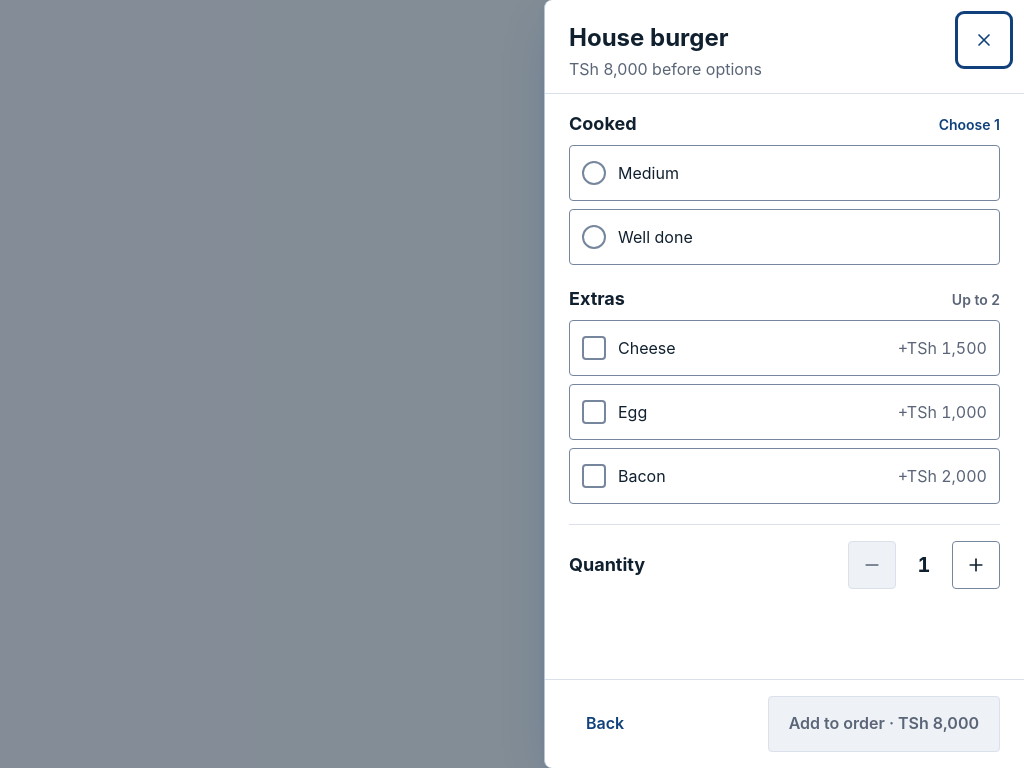
OptionsSheet › holds Add while more than the most allowed are chosen, as the catalog says
Step 1. Click the radio button labelled "Medium" → (648, 173), box [569,145,1000,201]
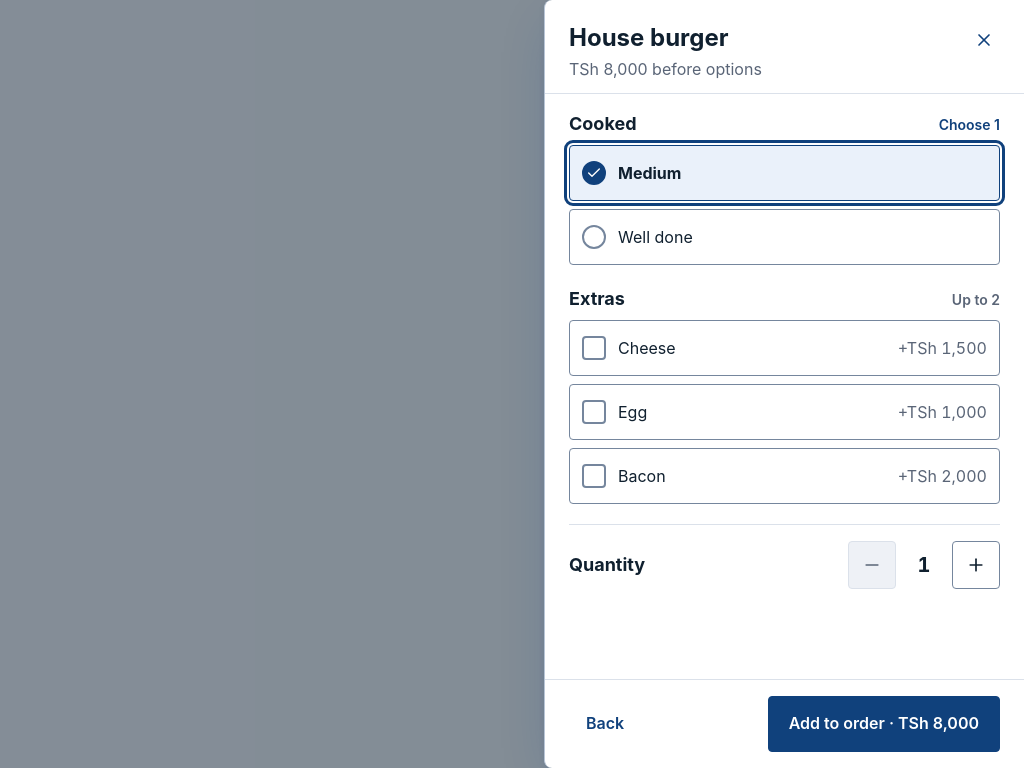
Step 2. Click the checkbox labelled "Cheese +TSh 1,500" → (647, 348), box [569,320,1000,376]
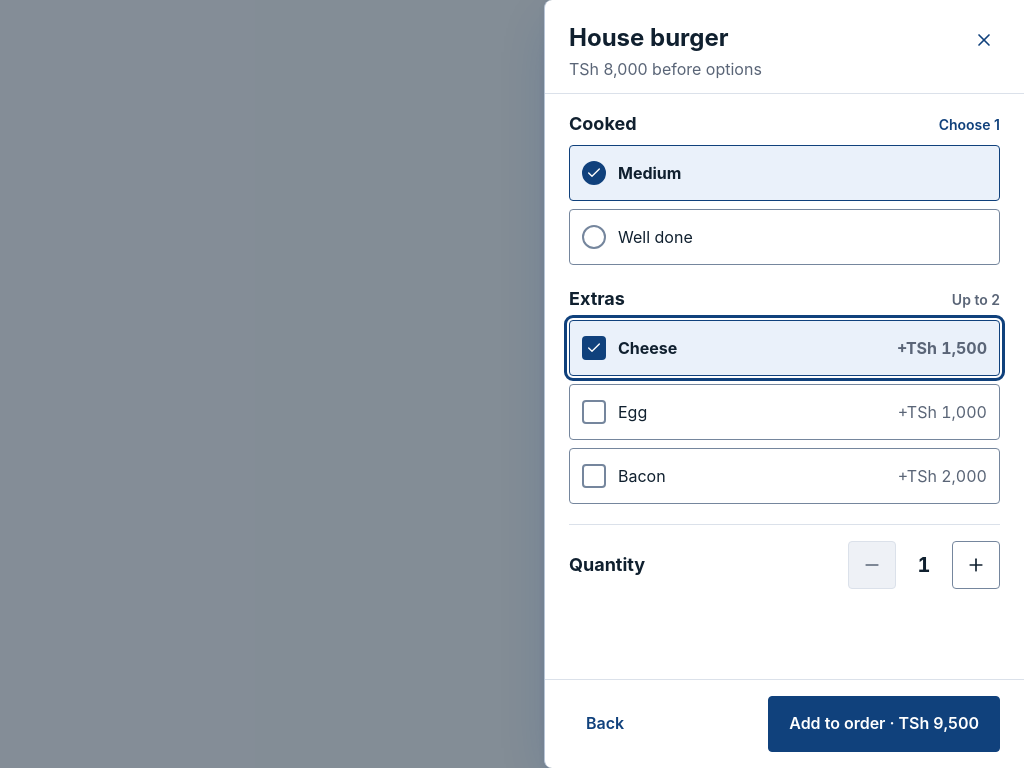
Step 3. Click the checkbox labelled "Egg +TSh 1,000" → (947, 412), box [569,384,1000,440]
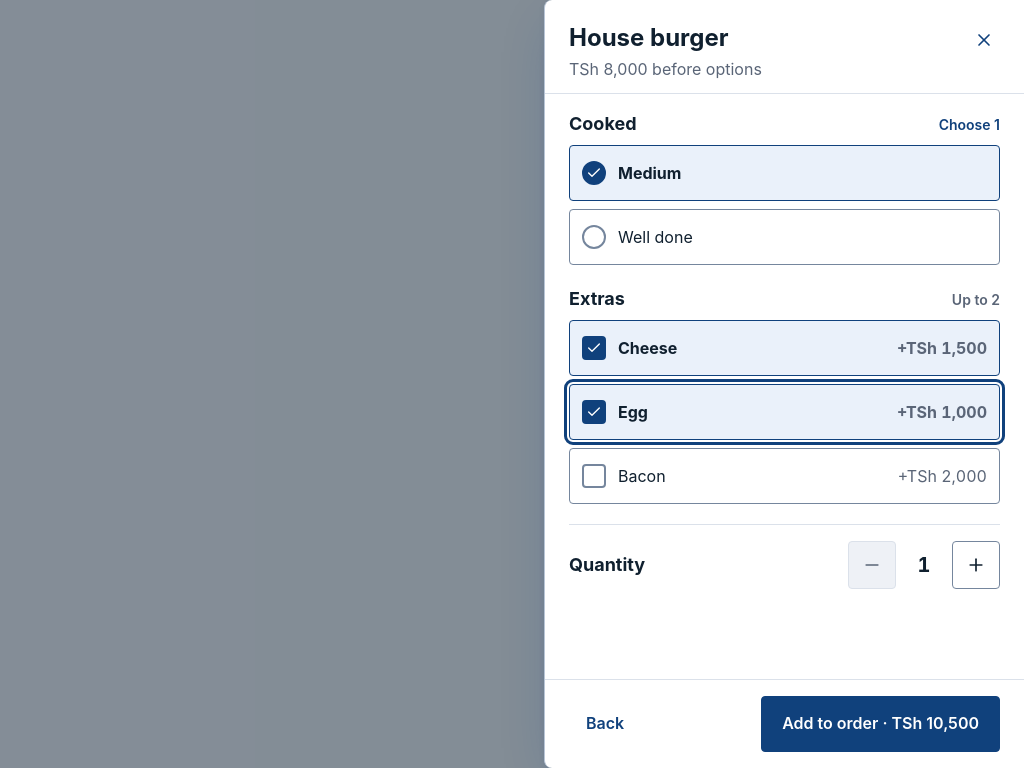
Step 4. Click the checkbox labelled "Bacon +TSh 2,000" → (642, 476), box [569,448,1000,504]
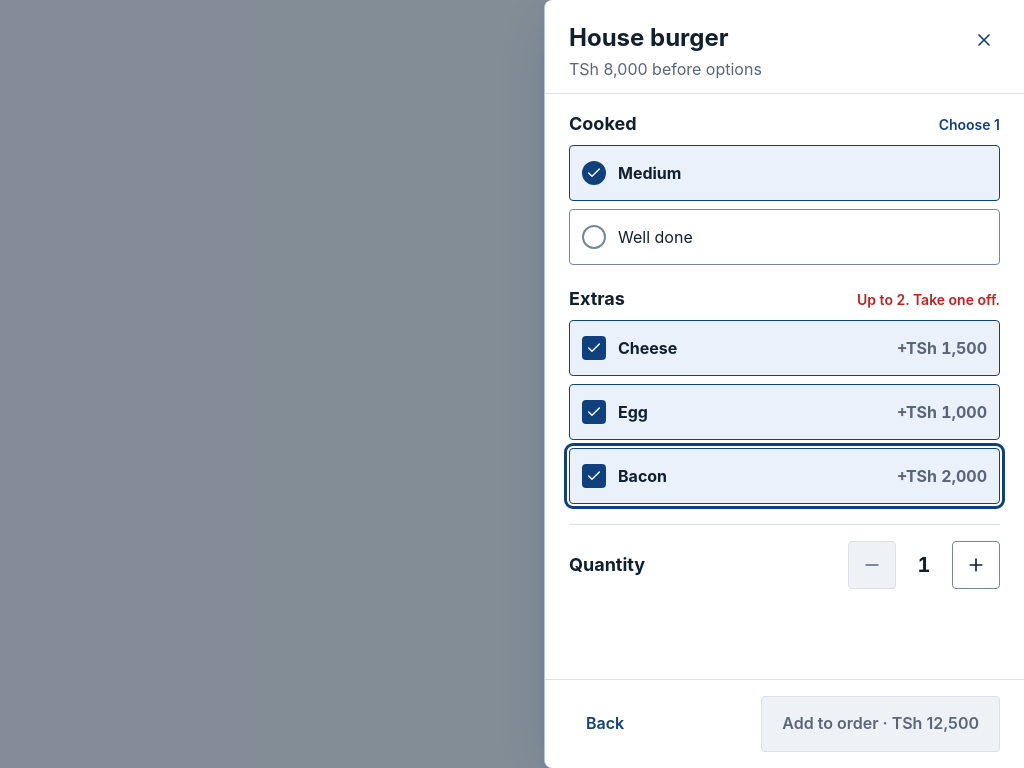
Now the button with test id "modifier-confirm-add" is disabled, box [761,696,1000,752]
Now the element named "Extras, up to 2" shows "Up to 2. Take one off.", box [857,291,1000,308]
Step 5. Click the checkbox labelled "Bacon +TSh 2,000" → (643, 476), box [569,448,1000,504]
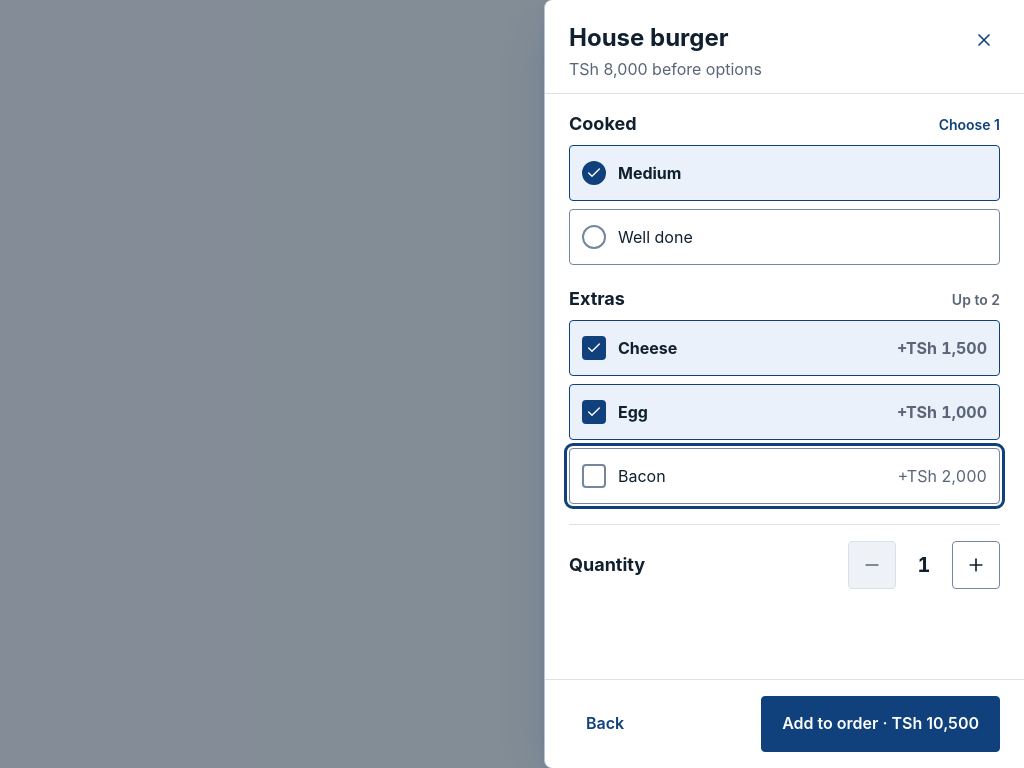
Now the button with test id "modifier-confirm-add" is enabled, box [761,696,1000,752]
